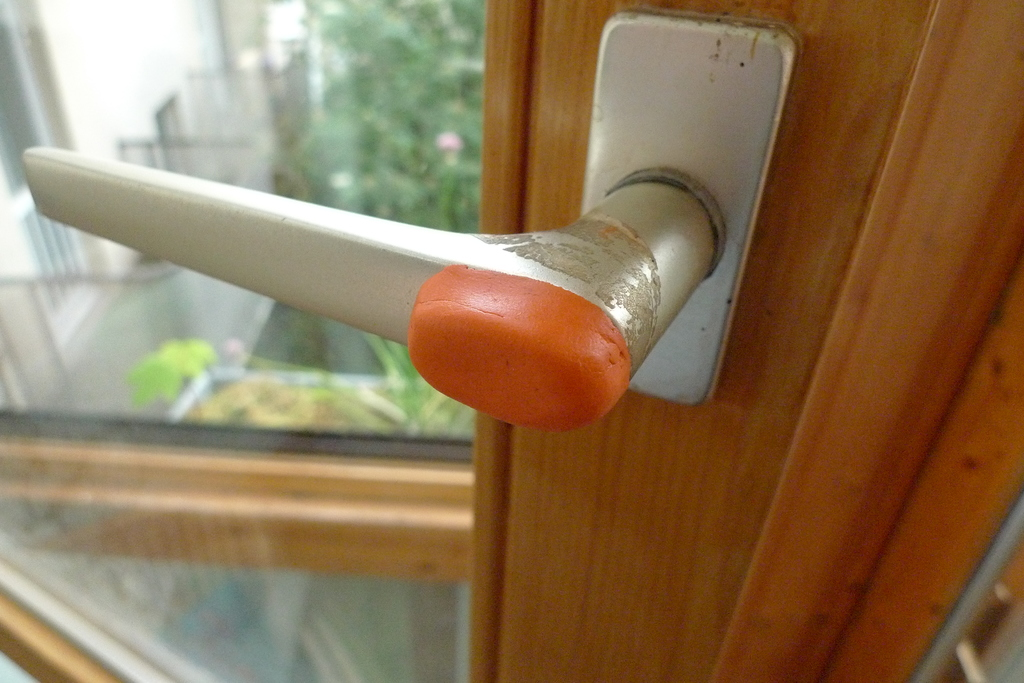door: (7, 2, 802, 683)
handle: (29, 102, 711, 446)
